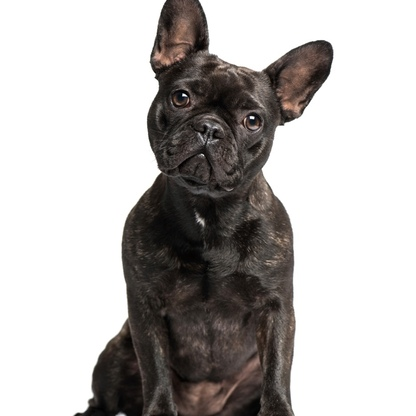bulldog: (83, 10, 340, 416)
